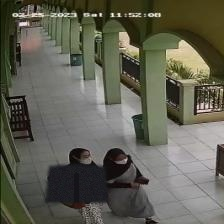Cadar_Niqab: (45, 146, 108, 202)
